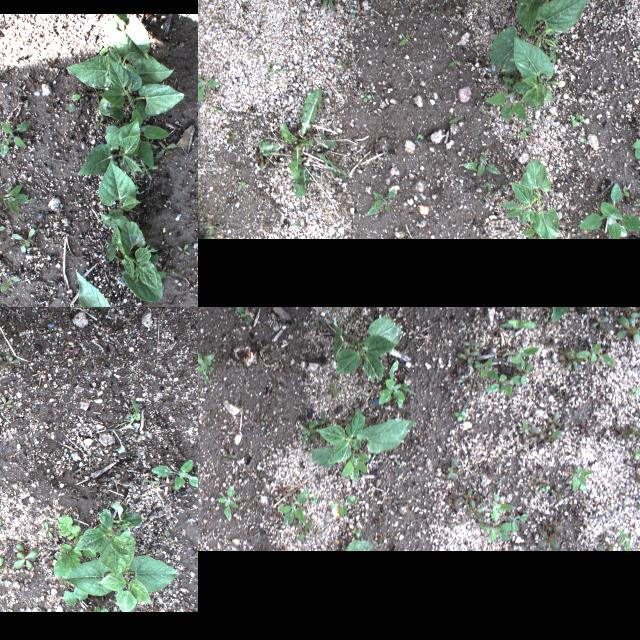crop: (51, 504, 180, 612), (489, 0, 592, 73), (312, 408, 414, 467), (98, 59, 182, 120), (498, 159, 558, 239), (105, 222, 163, 302), (332, 315, 400, 383), (65, 48, 173, 90), (76, 115, 142, 179), (512, 36, 560, 112), (98, 161, 140, 237), (495, 0, 572, 35), (74, 271, 148, 307), (104, 14, 150, 60), (345, 540, 373, 550)
weed: (253, 90, 347, 198), (579, 181, 640, 238), (121, 95, 169, 167), (485, 78, 533, 122), (377, 358, 415, 408), (147, 459, 198, 491), (340, 441, 368, 482), (0, 183, 37, 214), (0, 120, 30, 158), (278, 489, 308, 526), (461, 155, 501, 179), (576, 343, 614, 367), (480, 493, 512, 519), (366, 188, 394, 216), (12, 542, 38, 570), (217, 486, 237, 522), (478, 520, 509, 542), (485, 375, 519, 395), (446, 490, 476, 512), (509, 346, 537, 369), (11, 229, 37, 253), (198, 74, 219, 102), (328, 497, 356, 518), (572, 467, 594, 493), (500, 514, 530, 532), (303, 0, 347, 12), (560, 346, 582, 370), (615, 316, 640, 337), (198, 351, 214, 382), (537, 527, 559, 549), (473, 358, 497, 378), (0, 271, 19, 293), (140, 158, 158, 180), (154, 141, 176, 159), (456, 348, 478, 366), (301, 420, 317, 444), (0, 350, 19, 369), (631, 120, 640, 160), (66, 89, 82, 111), (235, 307, 253, 325), (466, 500, 482, 520), (516, 363, 532, 383), (126, 401, 140, 422), (295, 522, 311, 540), (527, 424, 543, 442), (500, 320, 534, 328), (41, 521, 54, 541), (614, 424, 632, 438), (447, 458, 458, 480), (628, 316, 638, 340), (542, 431, 562, 443), (550, 485, 564, 501), (177, 244, 190, 260), (519, 125, 533, 139), (547, 414, 561, 428), (591, 316, 607, 328), (618, 530, 630, 546), (30, 222, 44, 234), (44, 58, 56, 72), (633, 197, 640, 221), (160, 528, 172, 542), (629, 425, 640, 440), (462, 340, 478, 350), (570, 115, 584, 126), (54, 203, 64, 217), (93, 115, 103, 128), (220, 454, 236, 462), (15, 84, 25, 96), (312, 320, 324, 330), (150, 252, 158, 266), (456, 411, 466, 422), (630, 308, 640, 318), (352, 526, 360, 538), (320, 414, 328, 426), (535, 472, 543, 484), (597, 544, 613, 550), (378, 532, 387, 542), (0, 555, 4, 576), (330, 382, 336, 396), (450, 521, 464, 527), (474, 465, 481, 477), (148, 140, 156, 150), (0, 516, 4, 536), (539, 484, 549, 492), (522, 422, 530, 432), (309, 494, 317, 504), (447, 374, 459, 380), (24, 183, 34, 190), (164, 248, 172, 256), (630, 387, 638, 395), (632, 409, 640, 417), (632, 450, 640, 458), (0, 540, 6, 550), (158, 272, 166, 278), (99, 47, 107, 53), (260, 414, 264, 426), (624, 542, 630, 550), (192, 136, 198, 142), (333, 307, 345, 310), (134, 186, 138, 194), (460, 374, 464, 382), (497, 482, 501, 488)
